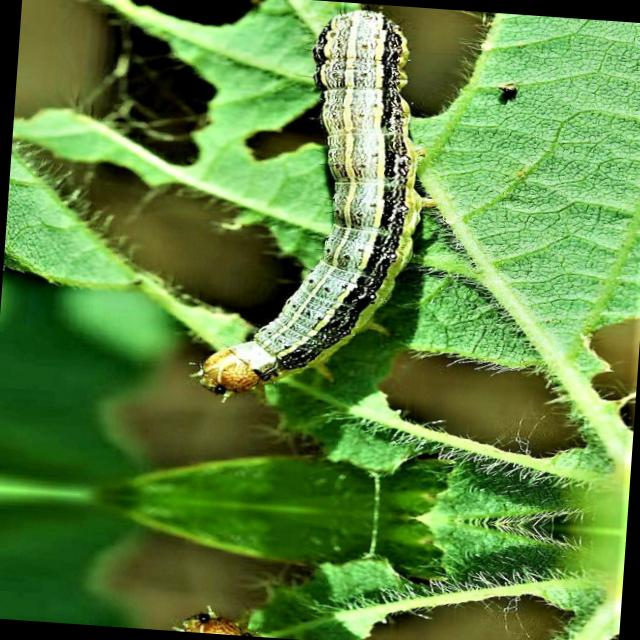Armyworm: (126, 1, 507, 444), (122, 601, 262, 638)
